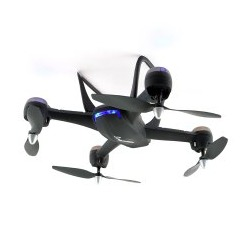drone: (23, 54, 230, 186)
